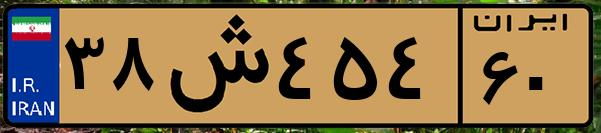0: (525, 38, 570, 115)
3: (57, 26, 110, 100)
4: (270, 28, 330, 110), (385, 28, 445, 110)
5: (330, 28, 385, 110)
6: (475, 38, 525, 113)
8: (110, 28, 158, 98)
ش: (158, 12, 270, 120)
